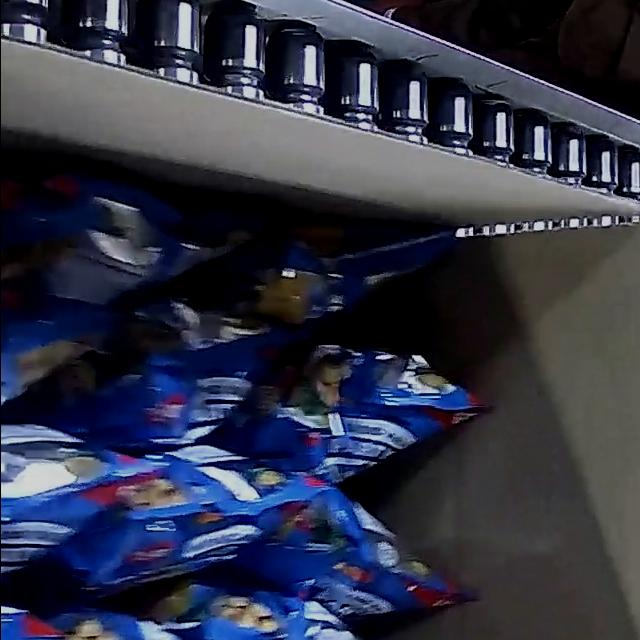paprika: (0, 151, 494, 640)
